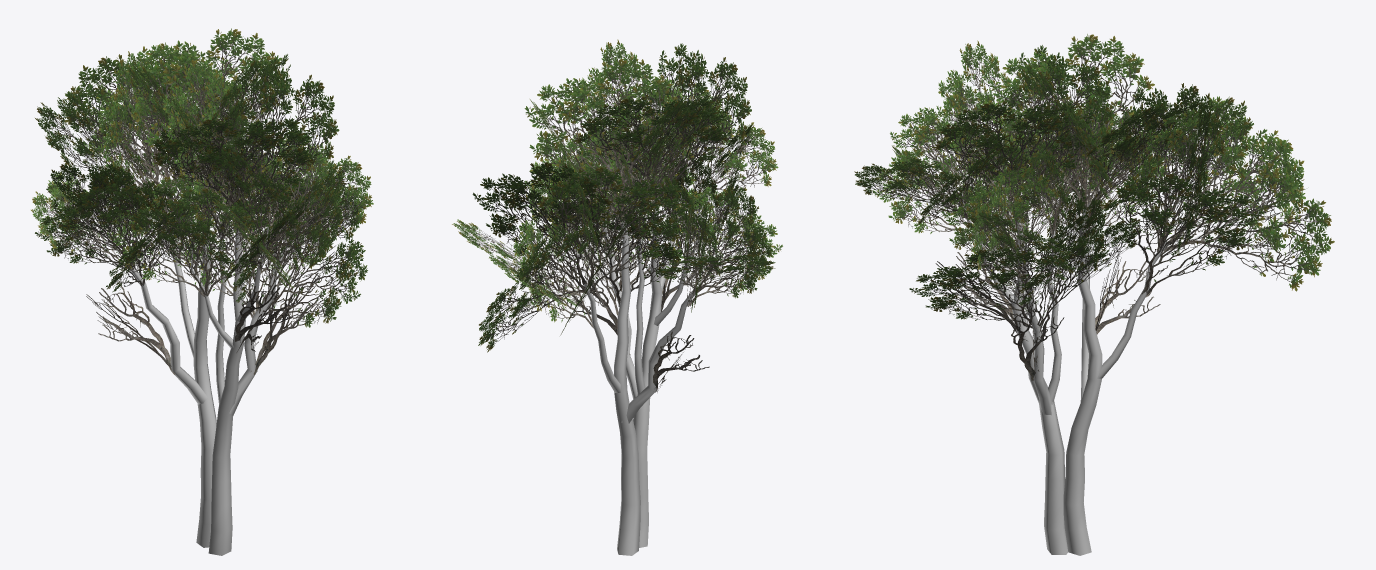
File: tree1.FBX
3 renders of one model, left to right at view 1: azimuth 30°, elevation 25°; view 2: azimuth 150°, elevation 25°; view 3: azimuth 270°, elevation 25°, orthographic. The views are drawn at different scales.
Visible parts, largest first — view 1: tree1; view 2: tree1; view 3: tree1.
Part boxes in pixels (x1,y1,x2,y2): tree1: (31,28,373,555); tree1: (452,39,782,555); tree1: (854,34,1334,555).
Size of the model in its own units: 104 by 167 by 158.
